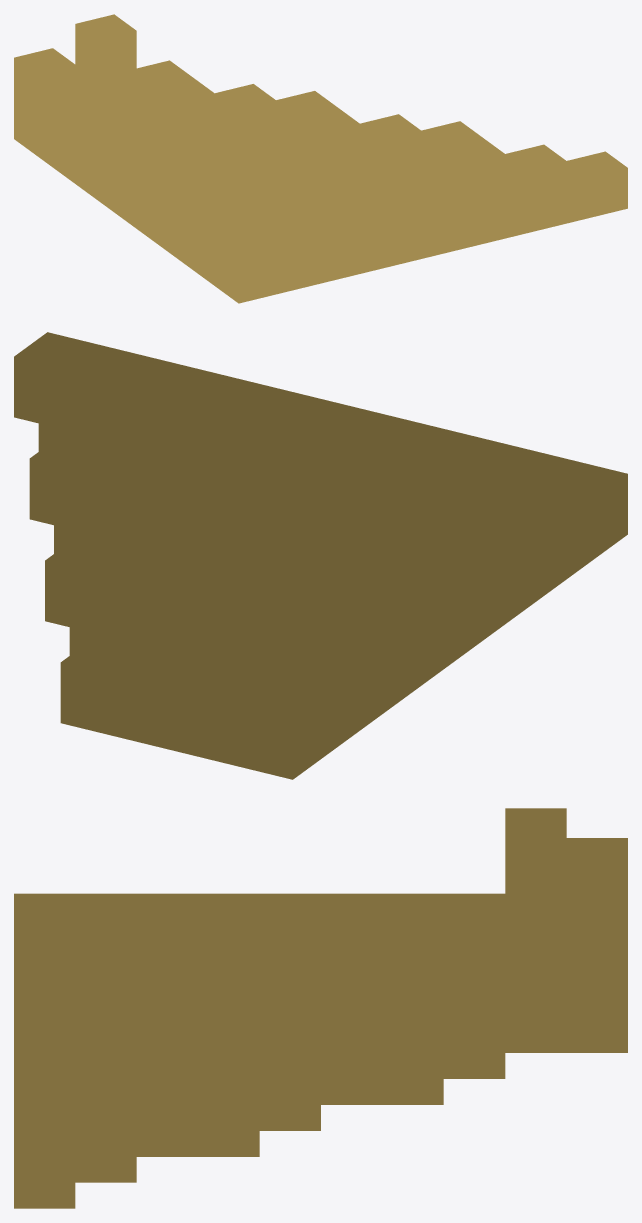
3 views of the same model, one above another, from view 1: azimuth 30°, elevation 25°; view 2: azimuth 150°, elevation 25°; view 3: azimuth 270°, elevation 25° (orthographic). The views are drawn at different scales.
Visible parts, largest first — view 1: SelectionPivot; view 2: SelectionPivot; view 3: SelectionPivot.
Part boxes in pixels (<box>): SelectionPivot: <box>14,14,627,303</box>; SelectionPivot: <box>14,332,627,779</box>; SelectionPivot: <box>14,808,627,1208</box>.
Bounding box in the file's own units: 10 × 3 × 10.
